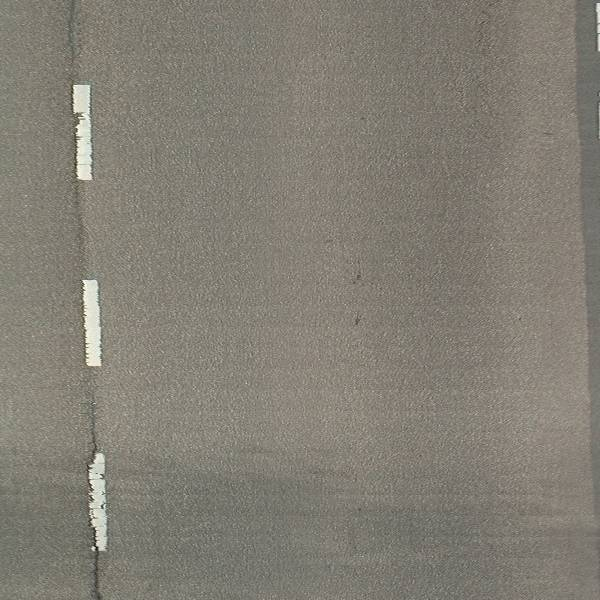road_damage: (85, 444, 103, 600)
